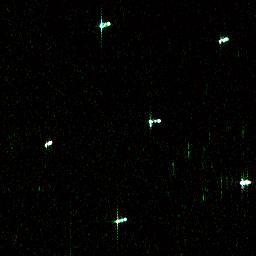ship: (42, 138, 55, 149), (98, 20, 112, 30), (216, 35, 230, 45), (114, 215, 128, 225), (146, 117, 162, 125), (238, 179, 252, 186)
